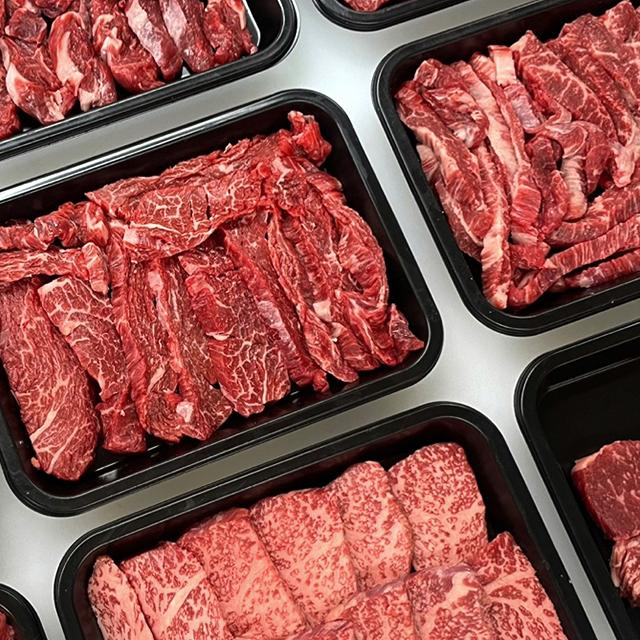beef: (17, 171, 396, 412), (123, 478, 560, 640), (407, 19, 640, 253), (0, 0, 240, 71)
